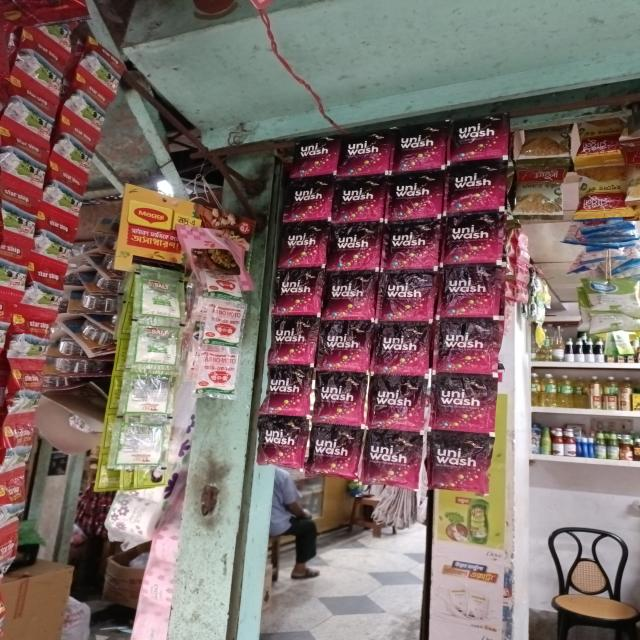non-ubl: (362, 426, 425, 491), (365, 374, 429, 430), (427, 371, 491, 427), (428, 435, 489, 493), (441, 213, 504, 269), (437, 267, 501, 320), (303, 422, 359, 482), (382, 219, 442, 271), (329, 177, 388, 229), (310, 372, 366, 426), (385, 171, 443, 223), (445, 163, 504, 214), (256, 414, 306, 474), (375, 272, 435, 322), (386, 122, 444, 173), (334, 129, 393, 179), (317, 320, 374, 371), (325, 223, 383, 273), (320, 272, 377, 321), (450, 116, 507, 165), (434, 318, 495, 362), (276, 267, 326, 316), (280, 221, 330, 270), (261, 369, 310, 417), (282, 177, 331, 224), (288, 136, 338, 182), (268, 315, 316, 358)
